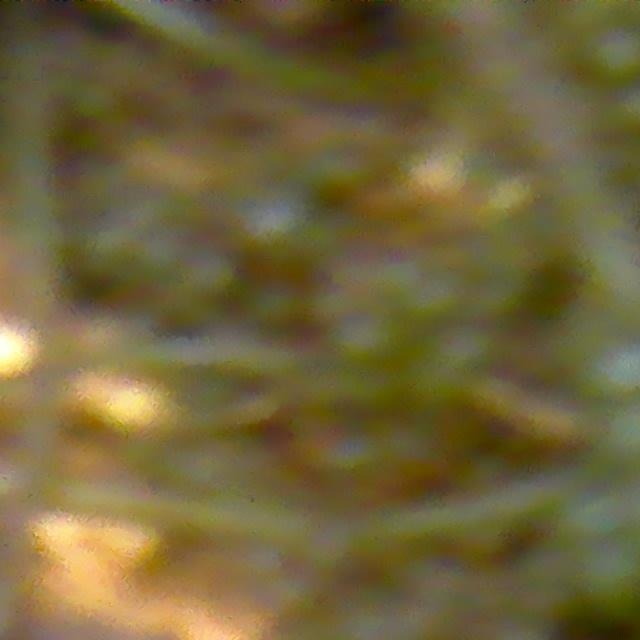SeaGrape: (570, 538, 640, 622), (557, 483, 625, 546), (581, 331, 640, 401), (587, 20, 640, 88)
